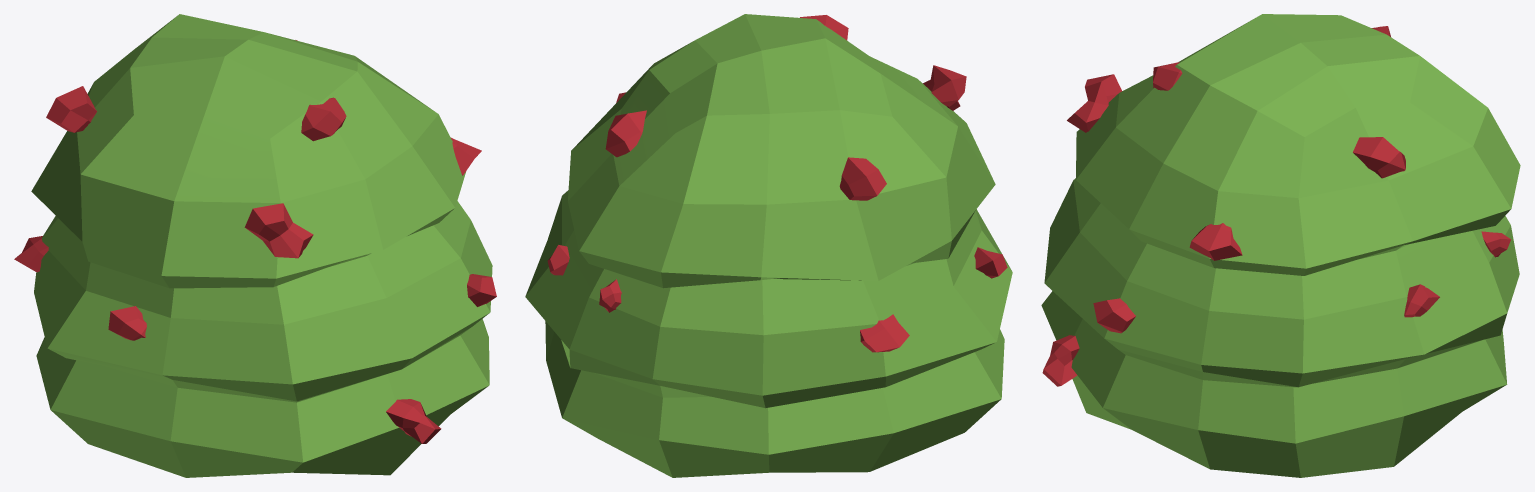
The model's file is BushBerries_2.glb.
3 views of the same model, side by side, from view 1: azimuth 30°, elevation 25°; view 2: azimuth 150°, elevation 25°; view 3: azimuth 270°, elevation 25° (orthographic). The views are drawn at different scales.
Parts seen in each view (by area): view 1: BushBerries_2; view 2: BushBerries_2; view 3: BushBerries_2.
Boxes of the visible parts, <box> form: BushBerries_2: <box>14,14,496,477</box>; BushBerries_2: <box>525,14,1012,477</box>; BushBerries_2: <box>1041,14,1520,477</box>.
Bounding box in the file's own units: 1.14 × 0.9568 × 1.12.
